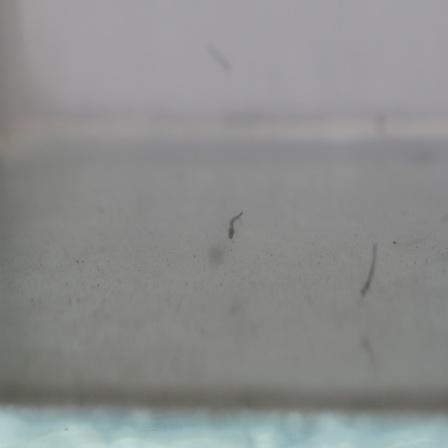Jentik-Nyamuk: (356, 238, 382, 305), (223, 208, 247, 243)
